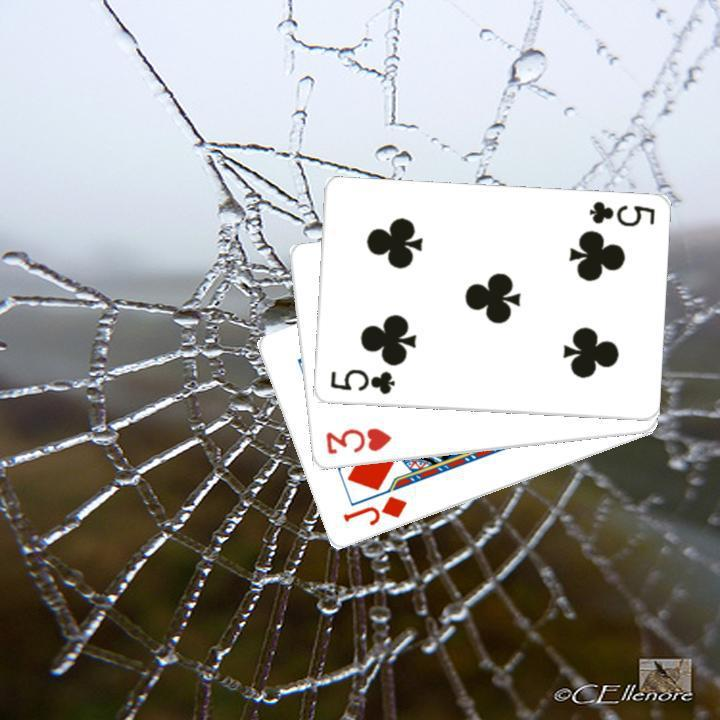3: (321, 424, 393, 457)
5: (584, 197, 656, 230), (325, 365, 396, 397)
J: (338, 492, 409, 529)
